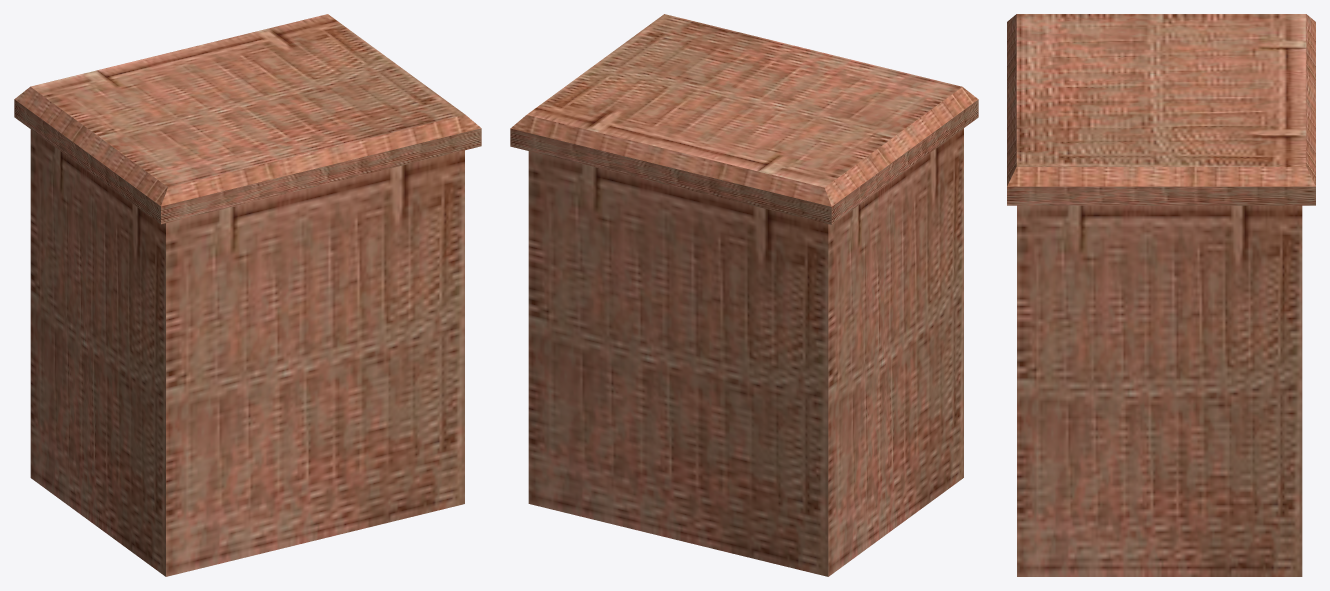
Rendered from basket6.obj.
The picture shows the model from 3 angles, left to right: view 1: azimuth 30°, elevation 25°; view 2: azimuth 150°, elevation 25°; view 3: azimuth 270°, elevation 25°; orthographic projection. The views are drawn at different scales.
Parts seen in each view (by area): view 1: Regroup11; view 2: Regroup11; view 3: Regroup11.
Part boxes in pixels (x1=…): Regroup11: x1=14, y1=14, x2=481, y2=576; Regroup11: x1=510, y1=14, x2=978, y2=576; Regroup11: x1=1007, y1=14, x2=1315, y2=576.
Bounding box in the file's own units: 32.53 × 37.75 × 25.75.
Materials: 1 (1 with a texture image).
